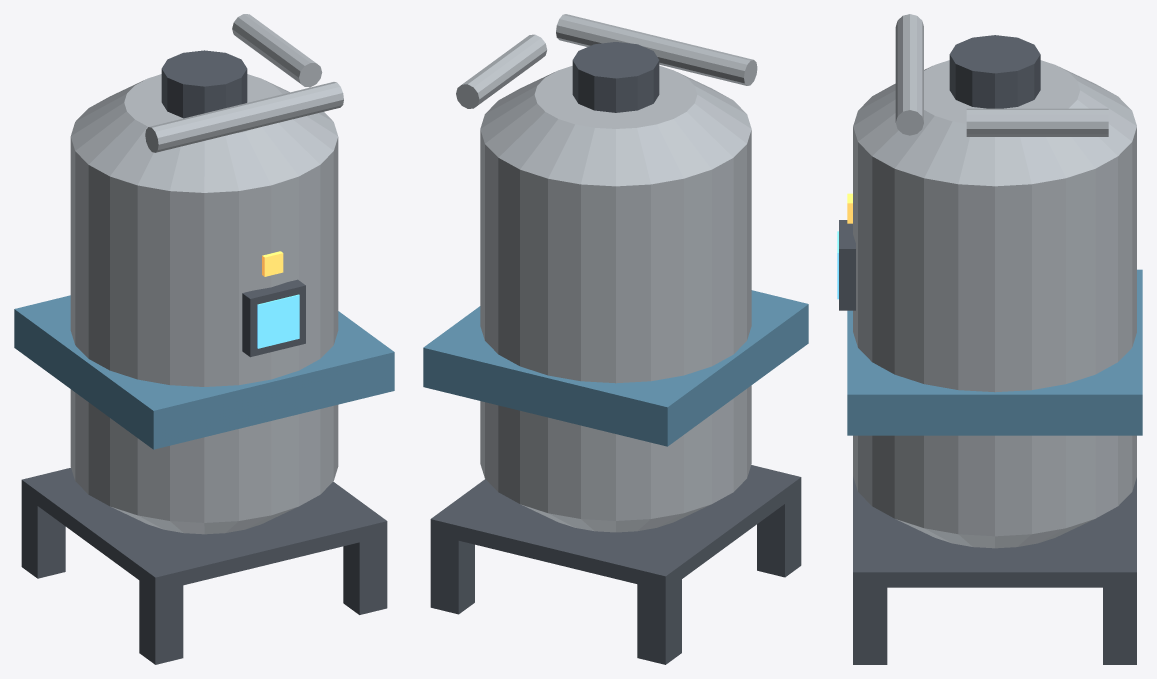
The model's file is spaceship-deck-kit-coolant-tank-0c24175f__12576.glb.
3 renders of one model, left to right at view 1: azimuth 30°, elevation 25°; view 2: azimuth 150°, elevation 25°; view 3: azimuth 270°, elevation 25°, orthographic. The views are drawn at different scales.
Visible parts, largest first — view 1: coolant-tank; view 2: coolant-tank; view 3: coolant-tank.
Boxes of the visible parts, bbox=[...] form: coolant-tank: bbox=[14, 14, 394, 664]; coolant-tank: bbox=[423, 14, 808, 664]; coolant-tank: bbox=[837, 14, 1142, 664].
Bounding box in the file's own units: 1.04 × 2.14 × 1.08.
